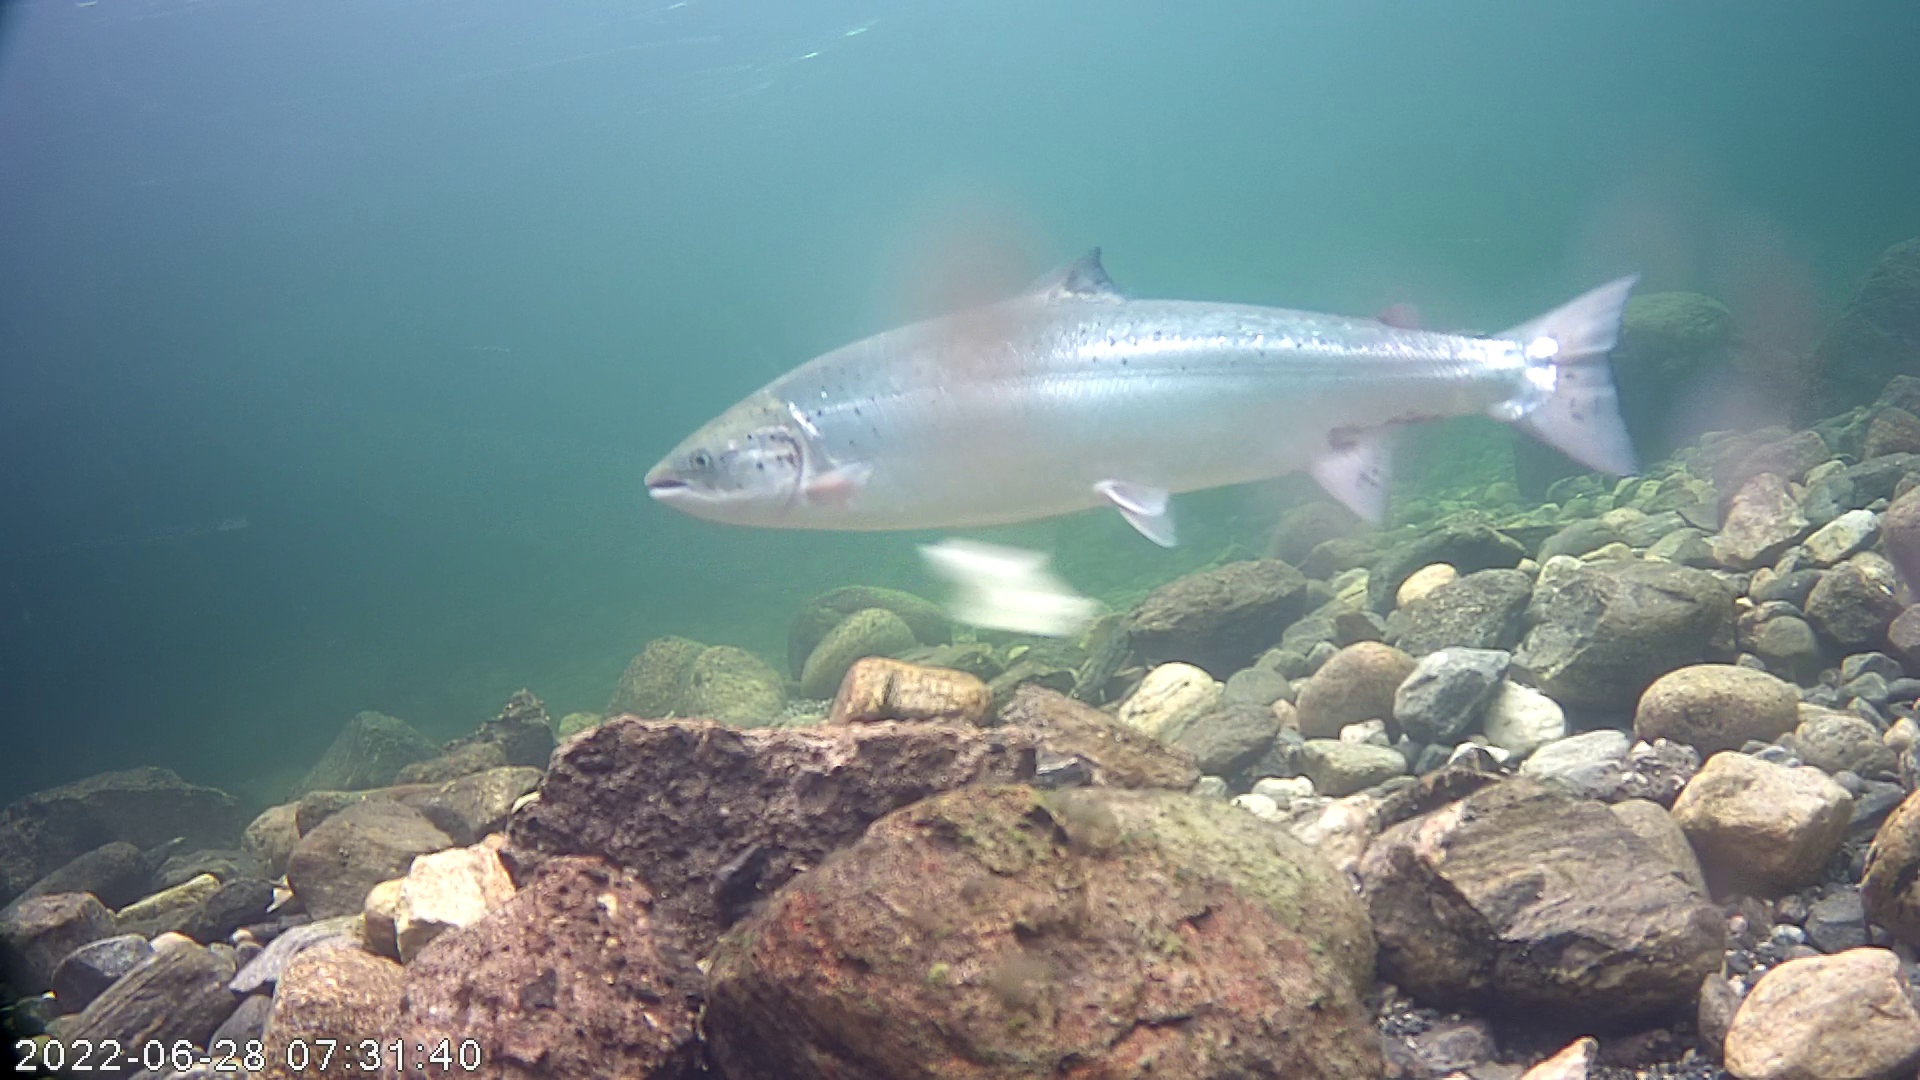salmon: (622, 116, 1691, 613)
